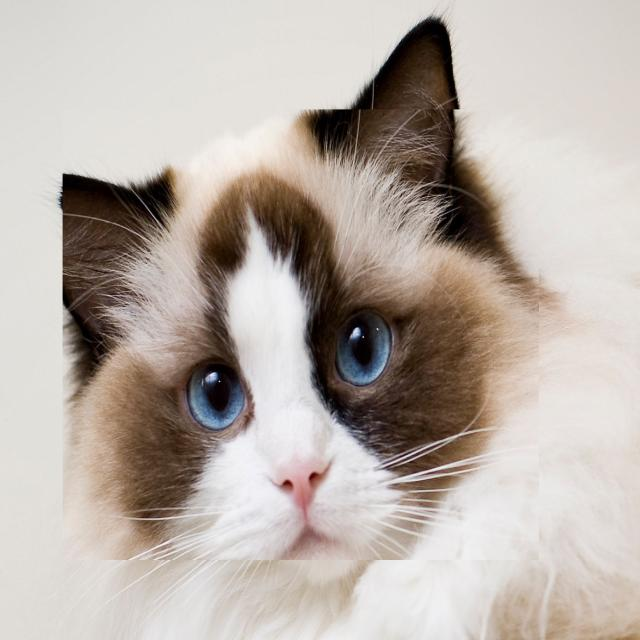Cat: (63, 110, 539, 560)
